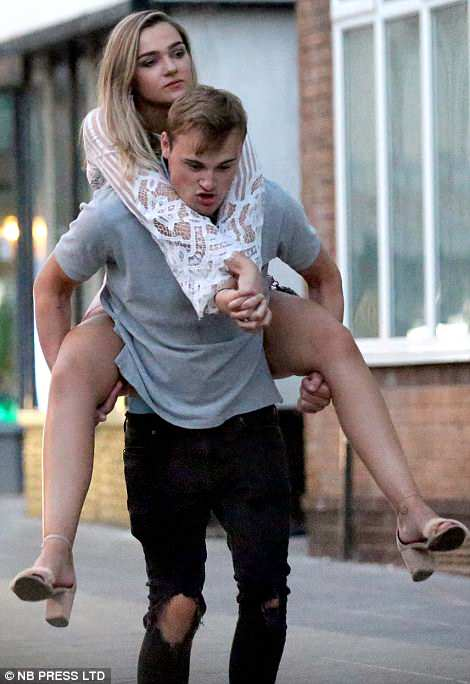Person: (7, 6, 469, 633), (27, 83, 352, 684)
